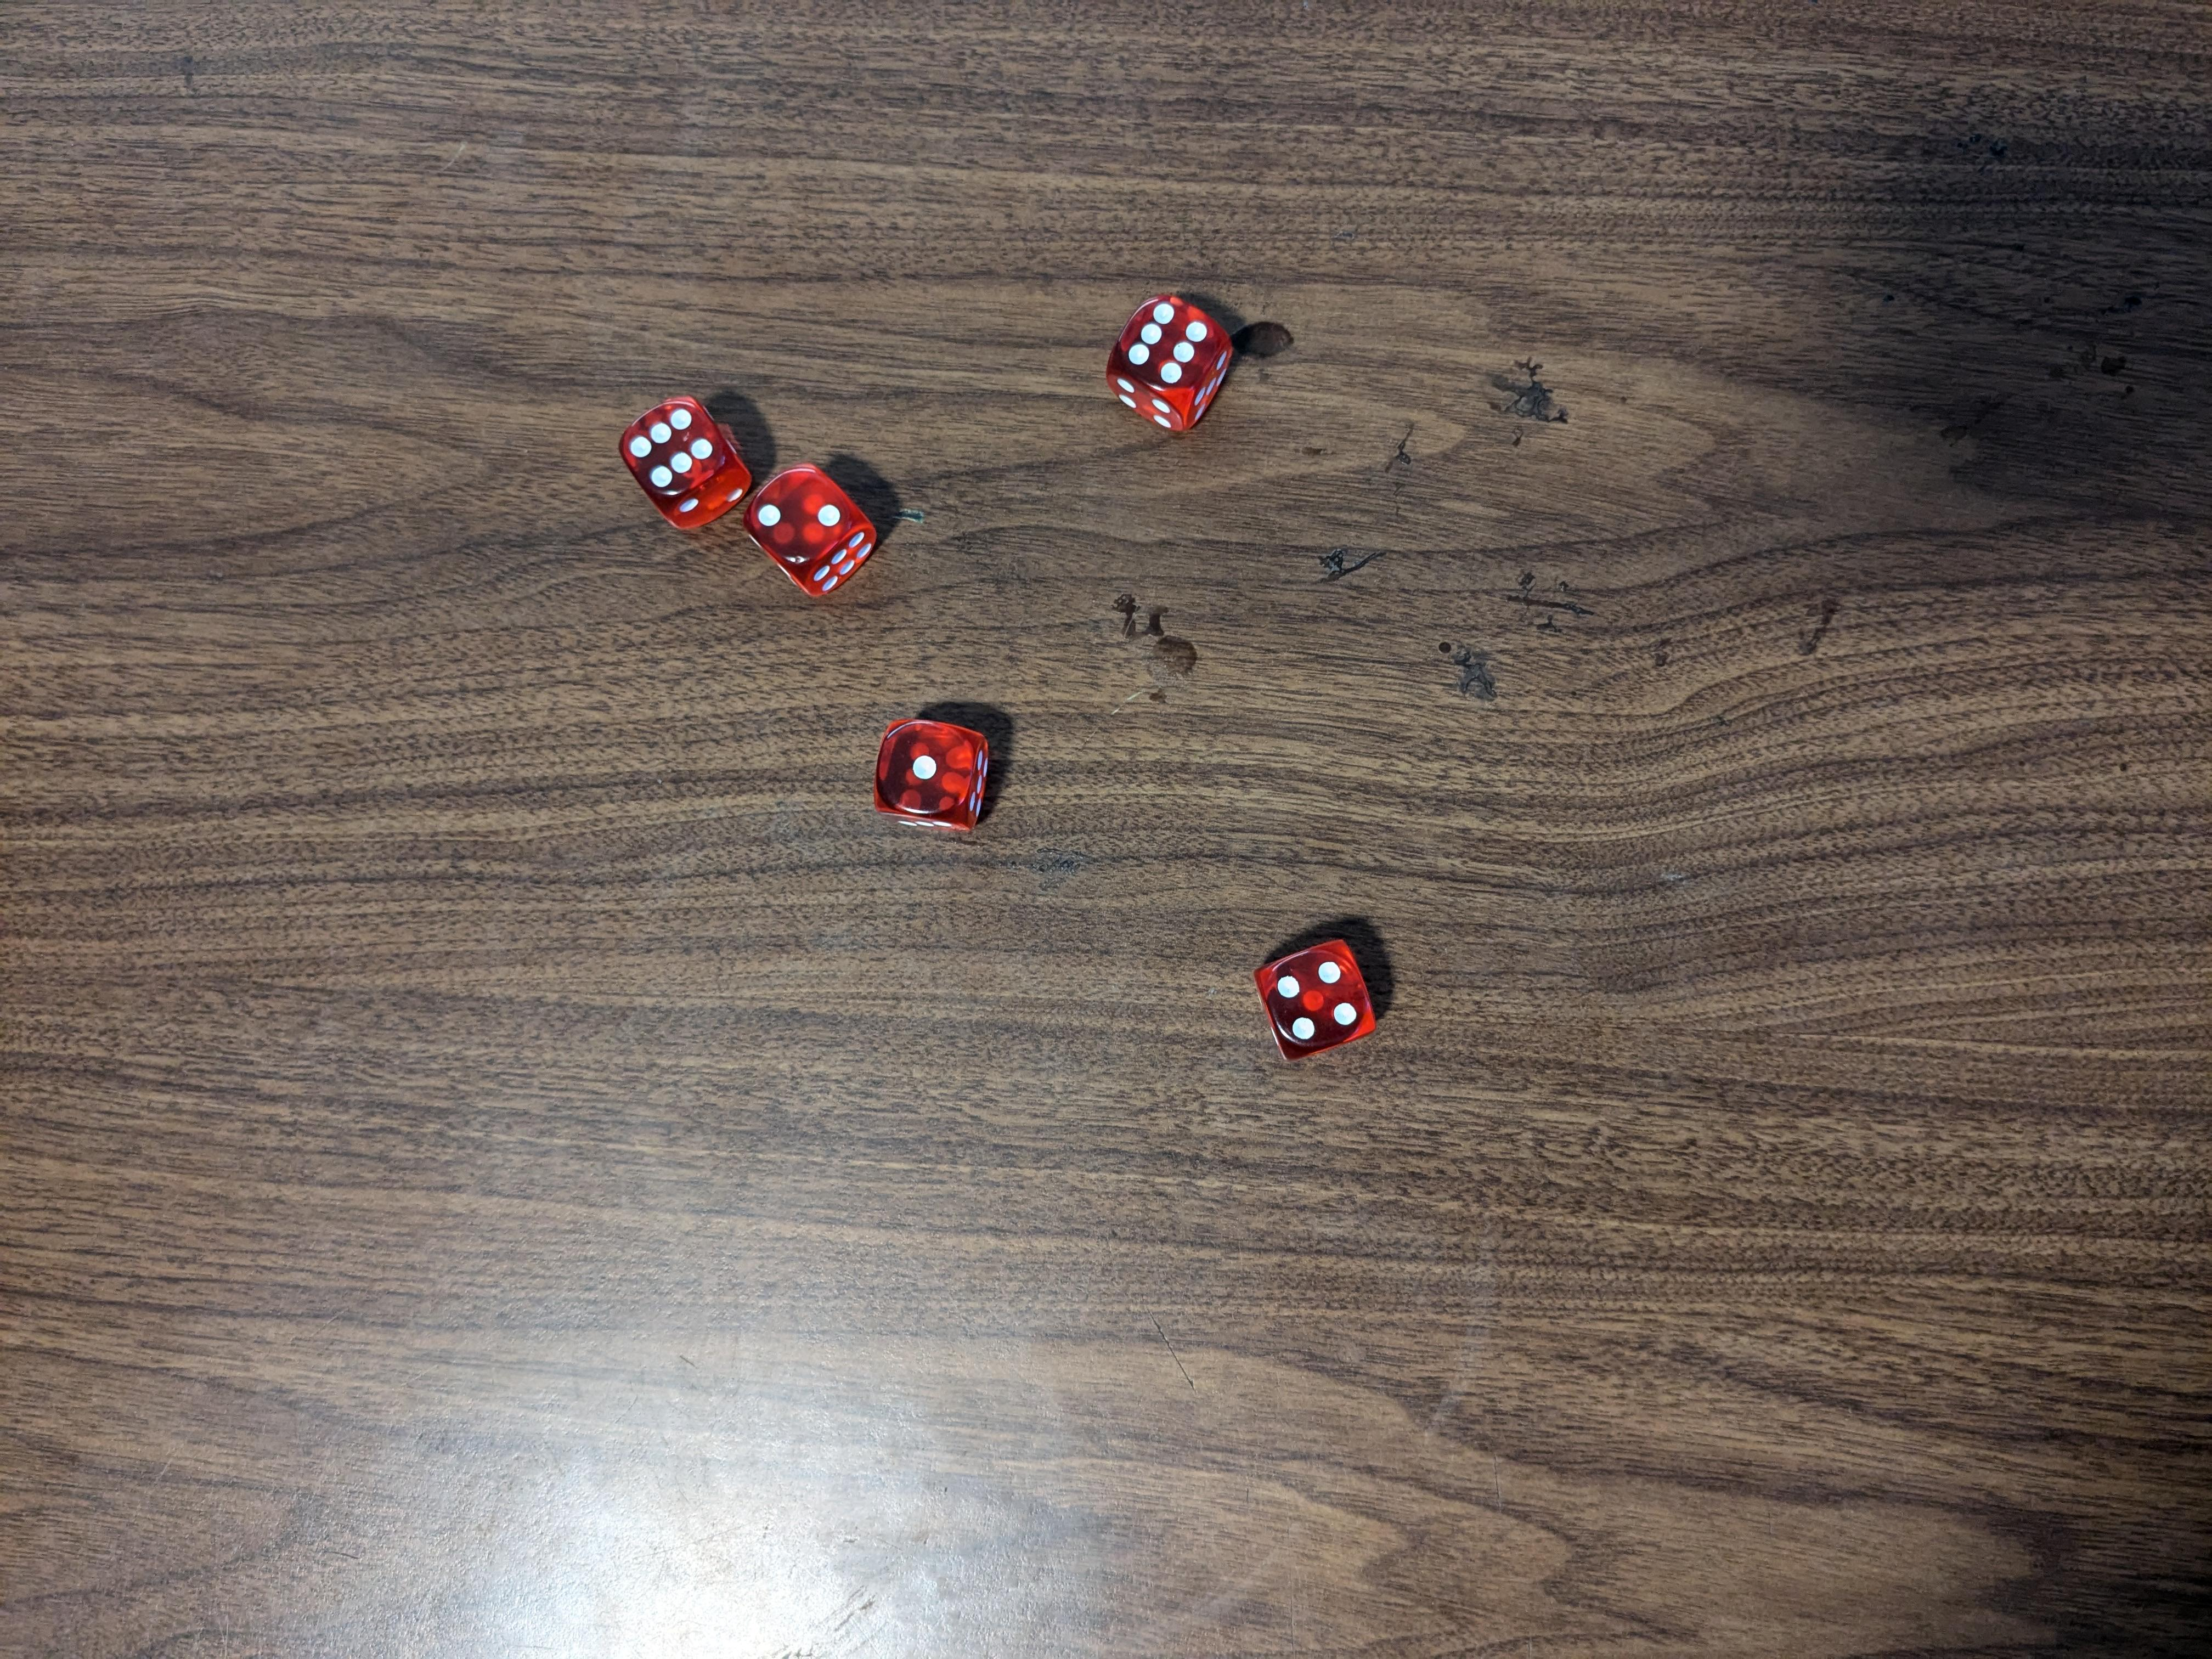four: (1252, 936, 1385, 1061)
one: (871, 716, 1001, 843)
six: (604, 390, 751, 528), (1099, 293, 1238, 436)
two: (742, 464, 885, 601)
